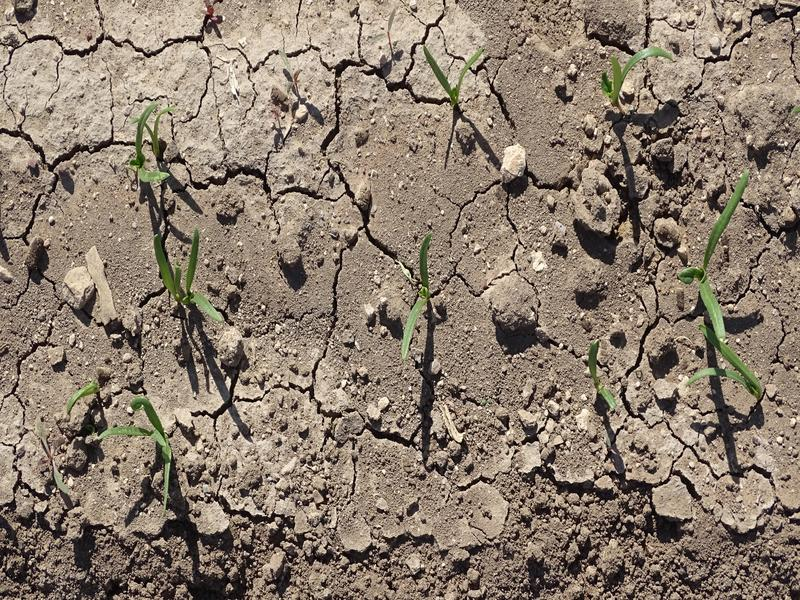Espinaca: (675, 168, 757, 335), (150, 225, 223, 324), (679, 325, 766, 407), (111, 394, 169, 490), (397, 233, 438, 353), (599, 47, 673, 104), (126, 104, 176, 184), (421, 44, 484, 101), (68, 378, 100, 413)
